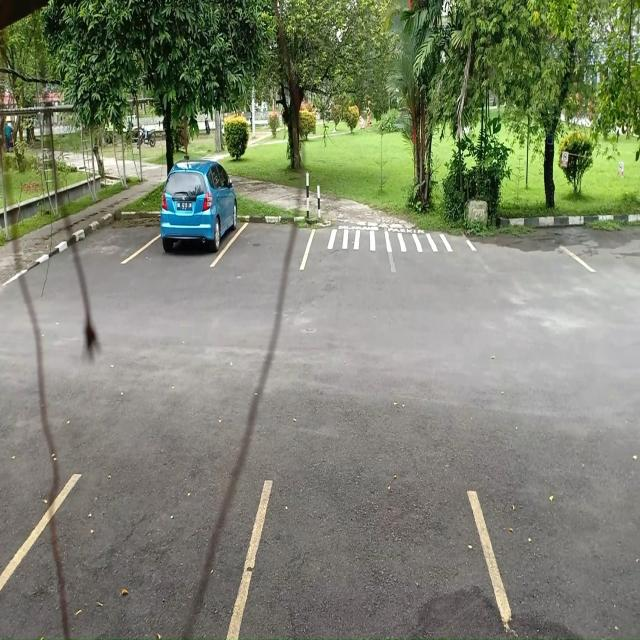empty: (260, 471, 494, 640), (66, 469, 262, 640), (221, 201, 312, 268), (464, 233, 596, 277), (82, 208, 150, 265)
occupied: (138, 188, 236, 266)
